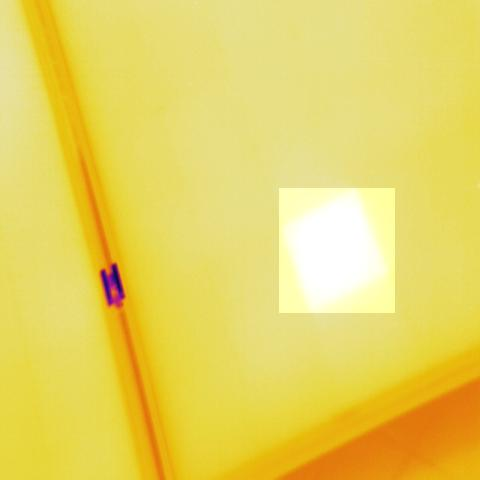fault: (279, 188, 395, 313)
